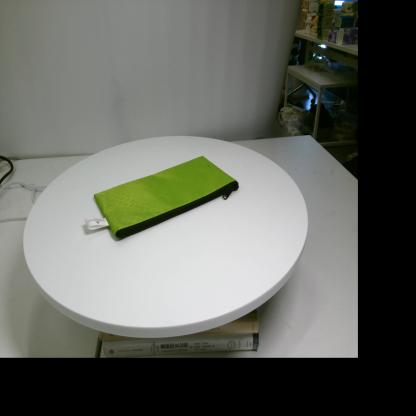Stationery: (84, 156, 239, 238)
